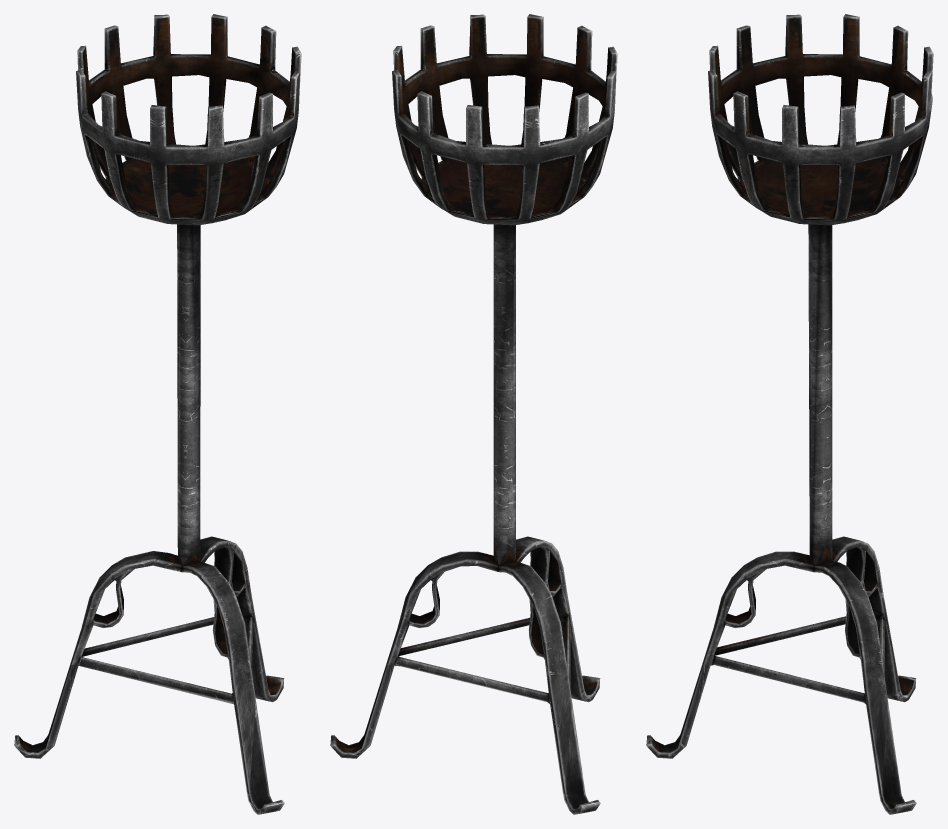
The model's file is Lamp_A_001.fbx.
3 views of the same model, side by side, from view 1: azimuth 30°, elevation 25°; view 2: azimuth 150°, elevation 25°; view 3: azimuth 270°, elevation 25° (orthographic).
Parts seen in each view (by area): view 1: Lamp_A_001; view 2: Lamp_A_001; view 3: Lamp_A_001.
Boxes of the visible parts, x1,y1,x2,y2 form: Lamp_A_001: [14, 14, 301, 814]; Lamp_A_001: [330, 14, 617, 814]; Lamp_A_001: [646, 14, 933, 814].
Size of the model in its own units: 58.72 by 144 by 54.16.
1 material, 1 textured.
